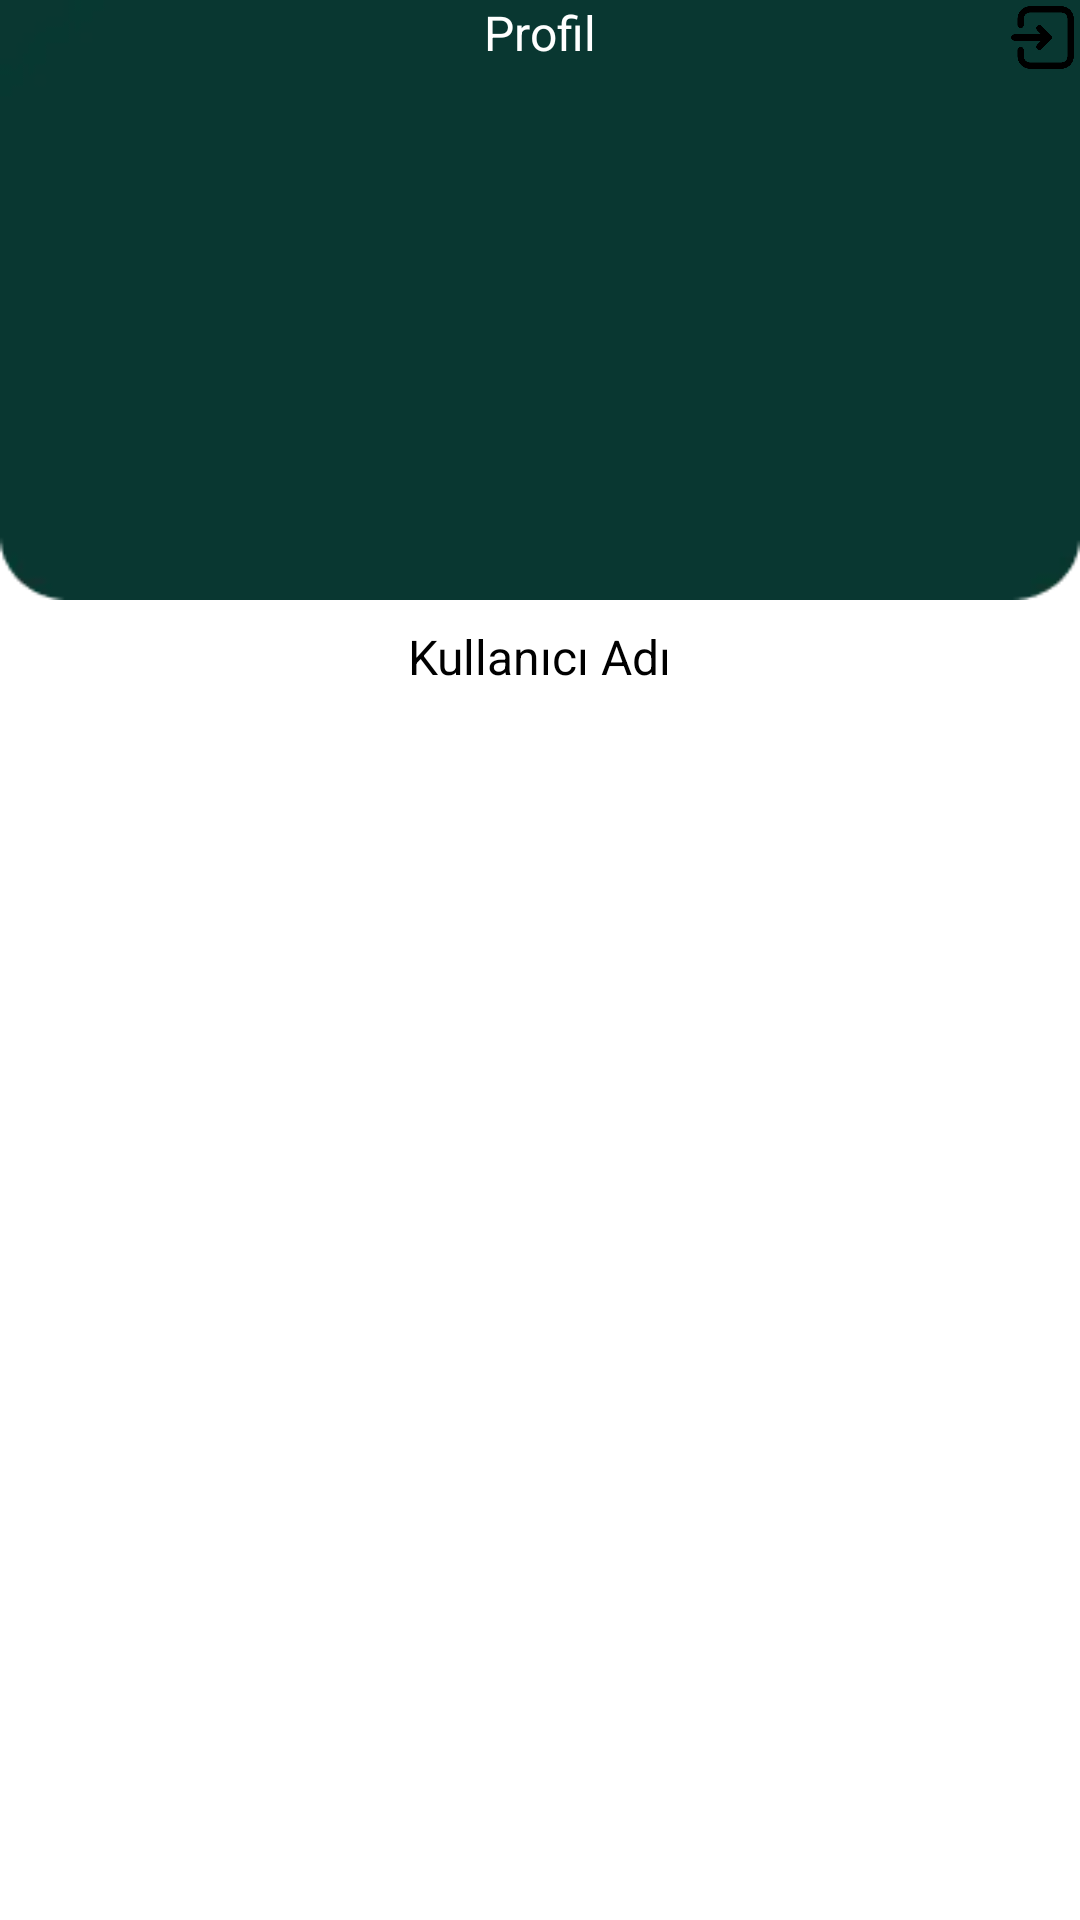

Screen size 1080 x 1920. Icon name, then its box in pixels as [x1,y1,x2,y2]:
log out: [1011,6,1074,69]
